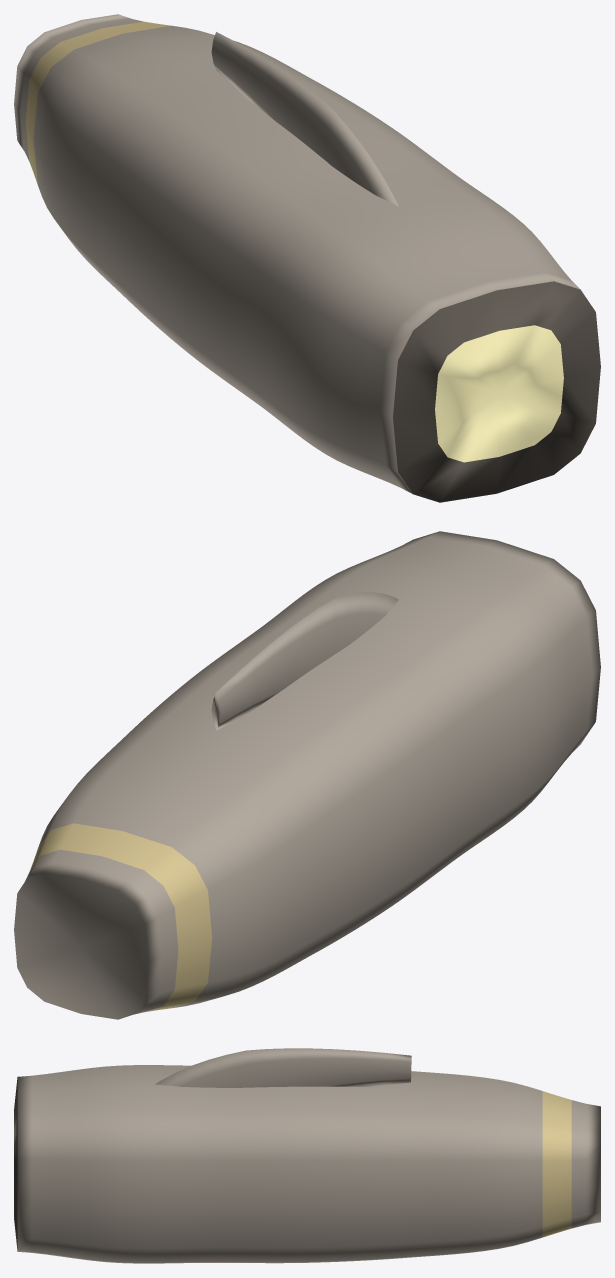
Rendered from tarsine_ff.glb.
The picture shows the model from 3 angles, top to bottom: view 1: azimuth 30°, elevation 25°; view 2: azimuth 150°, elevation 25°; view 3: azimuth 270°, elevation 25°; orthographic projection. The views are drawn at different scales.
Visible parts, largest first — view 1: hull_mesh, limb_0_mesh; view 2: hull_mesh, limb_0_mesh; view 3: hull_mesh, limb_0_mesh.
Part boxes in pixels (x1,y1,x2,y2): hull_mesh: (14,14,600,502); limb_0_mesh: (211,32,398,206); hull_mesh: (14,531,600,1019); limb_0_mesh: (211,592,398,730); hull_mesh: (14,1065,600,1263); limb_0_mesh: (155,1048,411,1087).
Size of the model in its own units: 24.75 by 26.67 by 72.43.
